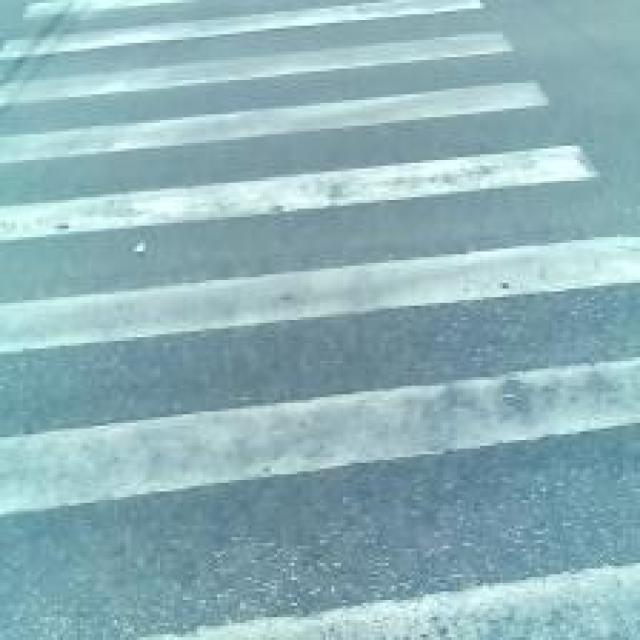walk-crossing: (9, 23, 634, 640)
